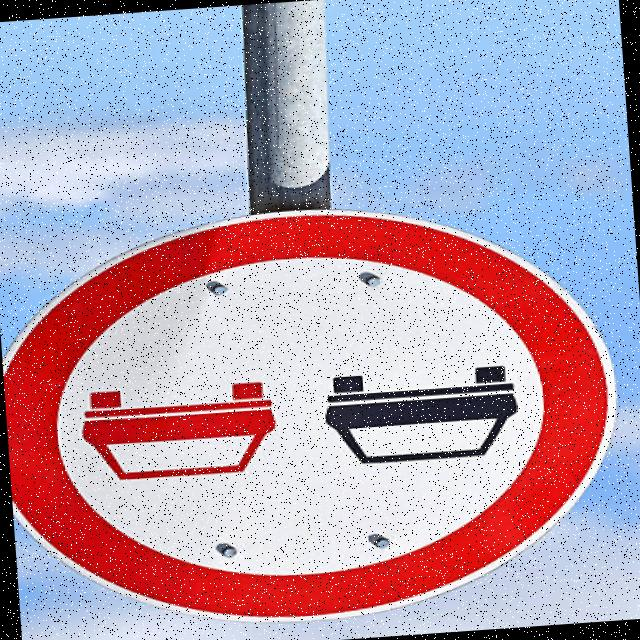no_passing: (0, 187, 635, 640)
